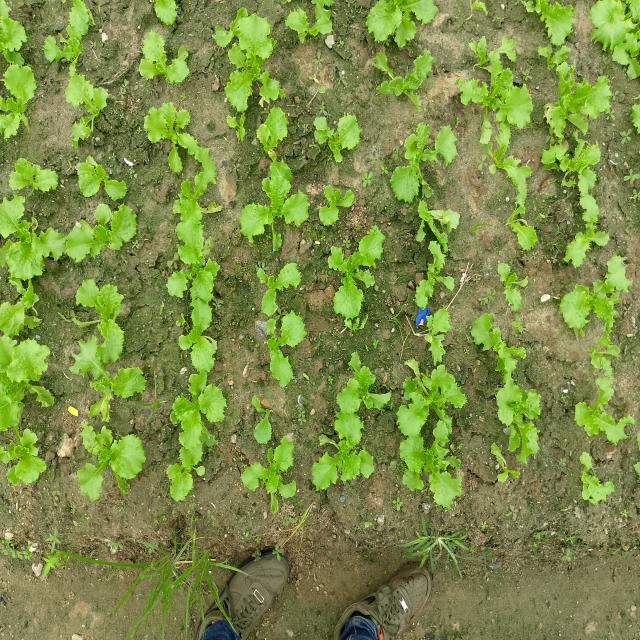Lettuce: (236, 163, 308, 251), (466, 37, 534, 128), (308, 405, 375, 493), (75, 418, 144, 502), (214, 17, 282, 102), (556, 260, 631, 336), (72, 335, 146, 412), (398, 431, 470, 510), (410, 197, 460, 308), (1, 188, 58, 280), (329, 233, 386, 323), (1, 331, 52, 430), (391, 124, 459, 196), (325, 345, 393, 414), (362, 48, 442, 106), (398, 368, 470, 431), (546, 68, 614, 134), (478, 122, 538, 195), (255, 304, 304, 391), (358, 0, 450, 46), (65, 202, 139, 258), (238, 438, 302, 502), (162, 176, 220, 243), (165, 373, 230, 432), (166, 232, 220, 302), (591, 0, 640, 75), (136, 32, 199, 88), (142, 98, 202, 156), (0, 423, 50, 492), (552, 142, 609, 202), (574, 394, 634, 448), (181, 294, 222, 372), (78, 280, 135, 336), (73, 158, 136, 206), (48, 3, 97, 63), (164, 434, 207, 502), (63, 76, 116, 131), (311, 111, 368, 162), (0, 278, 47, 334), (251, 263, 303, 309), (540, 0, 583, 55), (2, 64, 34, 136), (488, 260, 532, 312), (494, 383, 546, 426), (252, 109, 294, 158), (413, 304, 454, 354), (313, 182, 358, 226), (578, 450, 614, 504), (284, 0, 338, 34), (0, 0, 21, 62)
